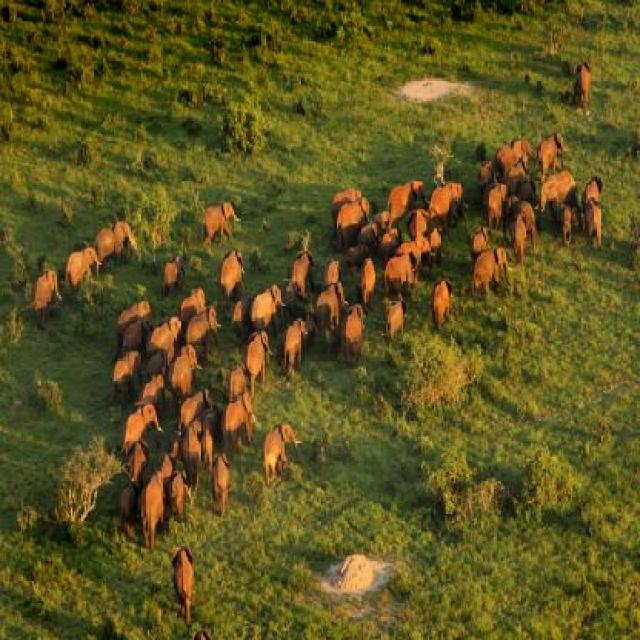elephant: (168, 540, 218, 629), (498, 194, 550, 251), (263, 407, 302, 481), (328, 304, 378, 358), (95, 204, 140, 262), (471, 252, 526, 298), (311, 281, 352, 339), (250, 271, 288, 332), (108, 398, 166, 437), (223, 388, 262, 443), (216, 450, 247, 516), (22, 264, 56, 324), (383, 246, 423, 297), (179, 380, 215, 434), (280, 313, 311, 375), (195, 192, 233, 242), (65, 237, 97, 295), (166, 342, 206, 387), (246, 324, 274, 388), (144, 468, 168, 542), (505, 214, 533, 275), (428, 266, 458, 322), (119, 414, 146, 475), (386, 173, 428, 212), (228, 292, 262, 339), (141, 372, 176, 416), (148, 308, 186, 348), (196, 422, 224, 476), (336, 204, 370, 247), (536, 124, 564, 176), (176, 273, 213, 312), (388, 285, 415, 338), (429, 175, 468, 211), (328, 178, 363, 218), (492, 134, 533, 168), (224, 238, 250, 291), (539, 169, 578, 203), (578, 58, 602, 113), (186, 314, 222, 348), (556, 199, 581, 247), (484, 180, 507, 232), (584, 167, 611, 210), (101, 357, 141, 385), (284, 244, 304, 296), (586, 212, 612, 252), (402, 234, 432, 268), (154, 436, 183, 470), (159, 246, 186, 282), (422, 218, 440, 271), (188, 412, 202, 479), (375, 219, 400, 256), (116, 313, 138, 355), (110, 295, 152, 316), (322, 254, 344, 294), (170, 469, 188, 514), (118, 472, 138, 512), (466, 232, 494, 260), (338, 237, 370, 261), (358, 248, 380, 282), (472, 152, 494, 186), (408, 198, 432, 228), (360, 216, 388, 241), (136, 348, 172, 367), (228, 357, 248, 389), (506, 168, 536, 186)
